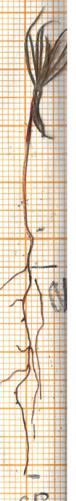flower: (15, 4, 68, 144)
root: (0, 268, 45, 479)
stem: (17, 90, 42, 269)
